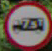Heavy Vehicles: (5, 5, 46, 43)
